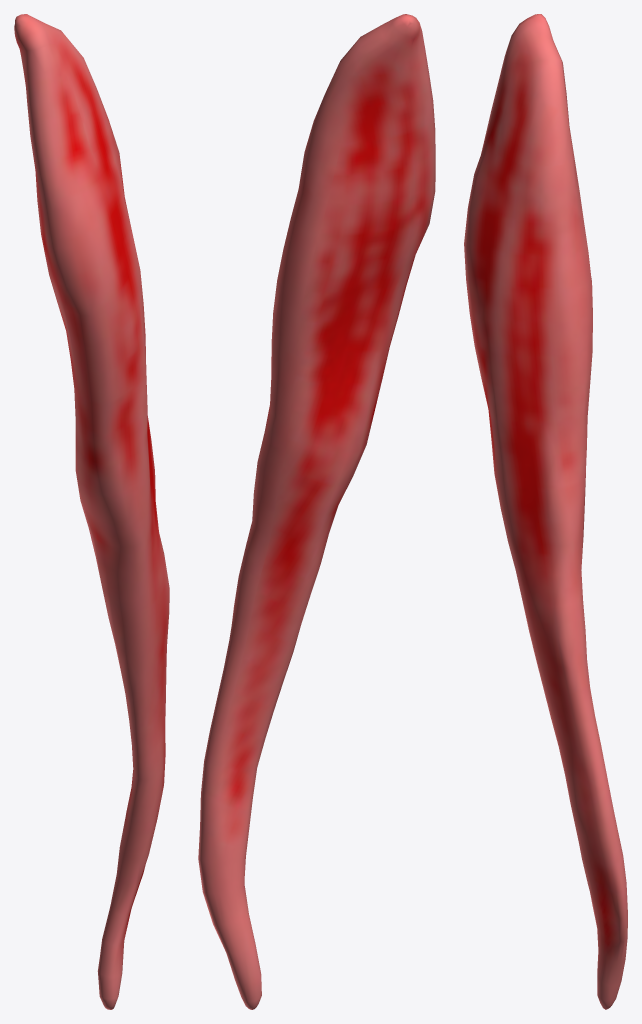
File: Flexor_Carpi_Radialis.glb
The picture shows the model from 3 angles, left to right: view 1: azimuth 30°, elevation 25°; view 2: azimuth 150°, elevation 25°; view 3: azimuth 270°, elevation 25°; orthographic projection. The views are drawn at different scales.
Parts seen in each view (by area): view 1: flexor_carpi_radialis1.004; view 2: flexor_carpi_radialis1.004; view 3: flexor_carpi_radialis1.004.
Part boxes in pixels (x1=…): flexor_carpi_radialis1.004: x1=14, y1=14, x2=169, y2=1009; flexor_carpi_radialis1.004: x1=198, y1=14, x2=435, y2=1009; flexor_carpi_radialis1.004: x1=464, y1=14, x2=627, y2=1009.
Bounding box in the file's own units: 0.092 × 0.4956 × 0.0783.
Materials: 1 (1 with a texture image).
